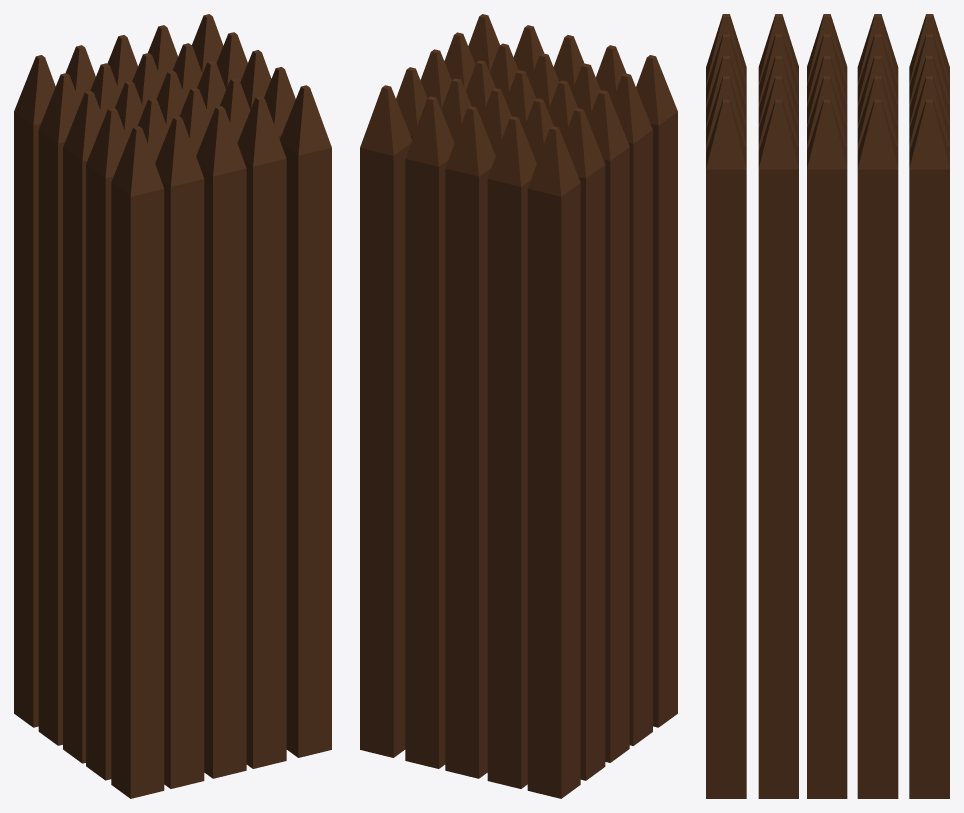
The model's file is third5.fbx.
The picture shows the model from 3 angles, left to right: view 1: azimuth 30°, elevation 25°; view 2: azimuth 150°, elevation 25°; view 3: azimuth 270°, elevation 25°; orthographic projection. The views are drawn at different scales.
Parts seen in each view (by area): view 1: Cube.014; view 2: Cube.014; view 3: Cube.014.
Part boxes in pixels (box(x1,y1,x2,y2)): Cube.014: box(14, 14, 331, 798); Cube.014: box(360, 14, 677, 798); Cube.014: box(706, 14, 949, 798).
Size of the model in its own units: 55.81 by 175 by 56.01.
